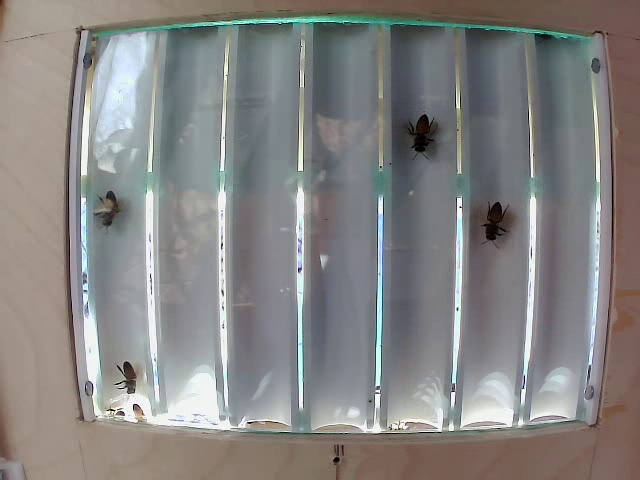bee: (406, 108, 441, 164), (481, 199, 513, 245), (97, 193, 128, 221), (114, 350, 138, 380)
